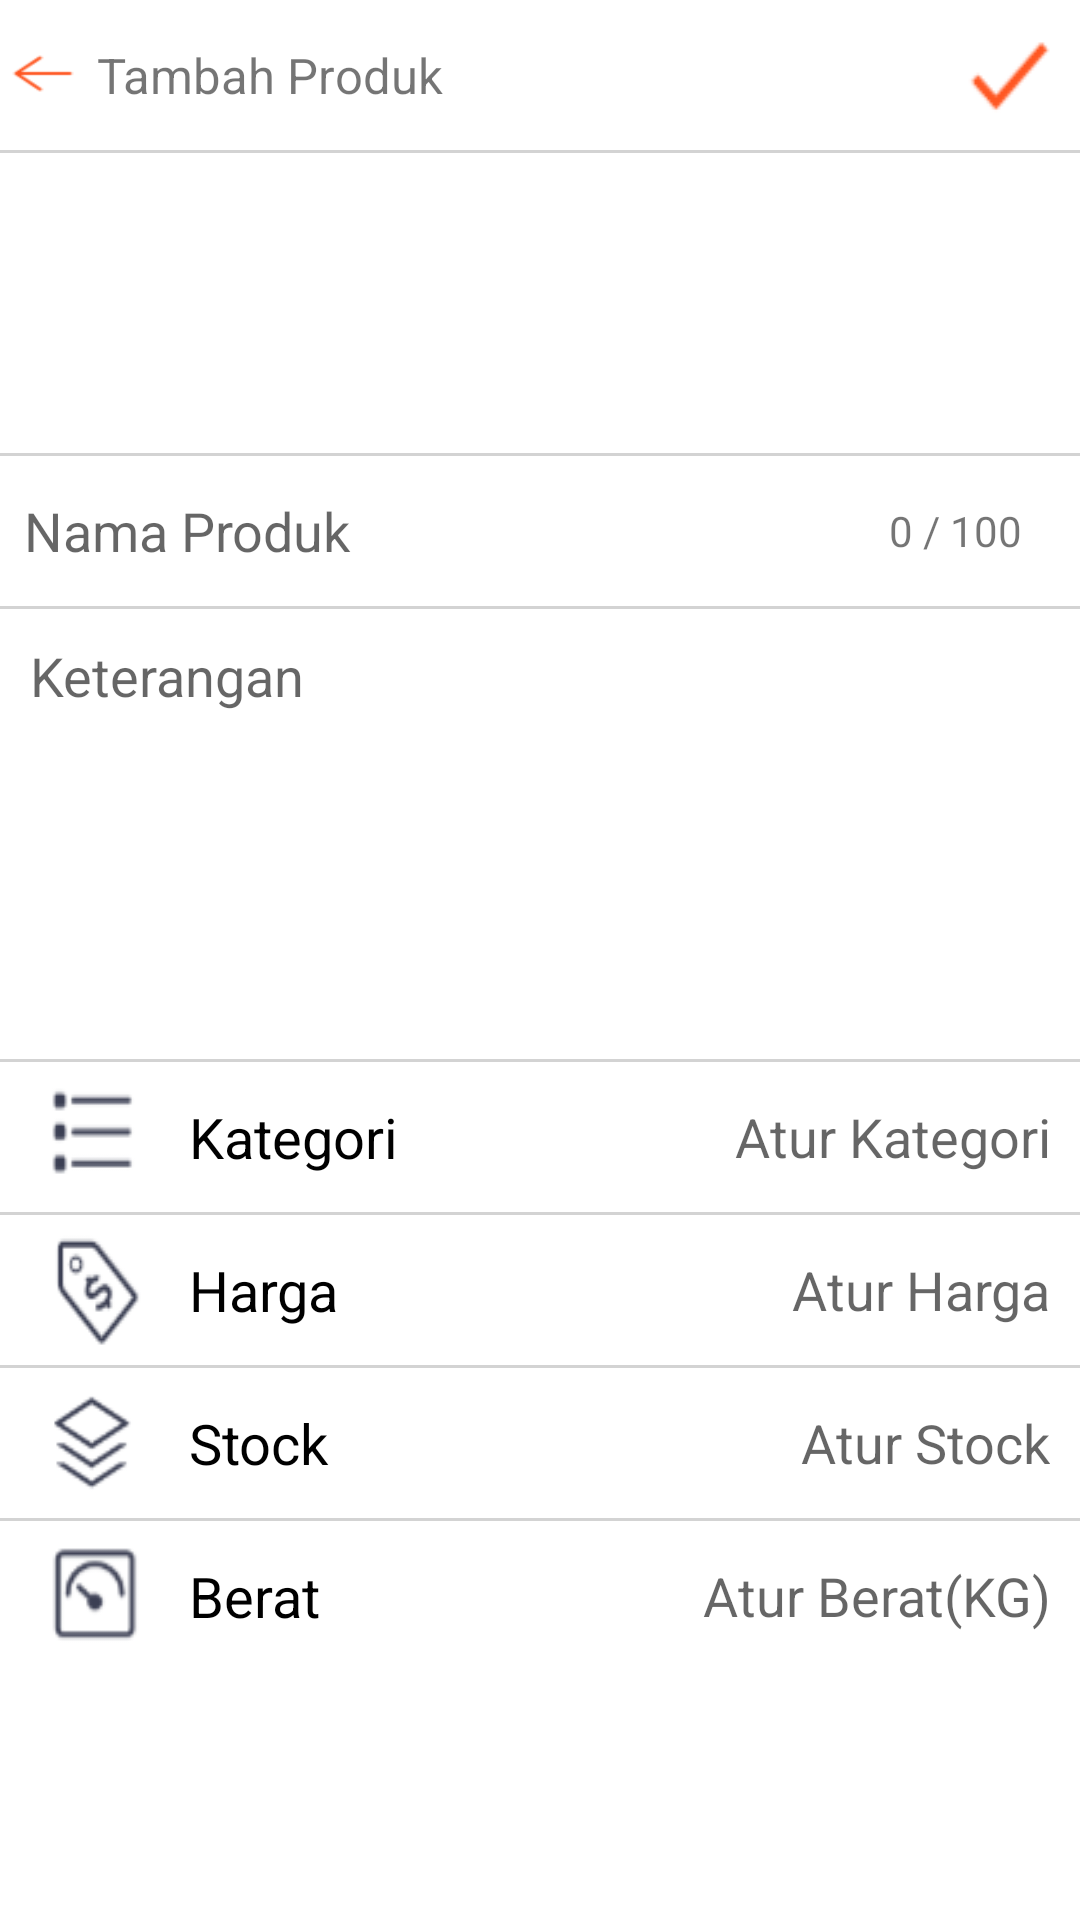

Icon click points for this 1080*1920 phone screenshot, format (x,y):
backarrow: (43,73)
done: (1010,76)
pricetag: (98,1292)
